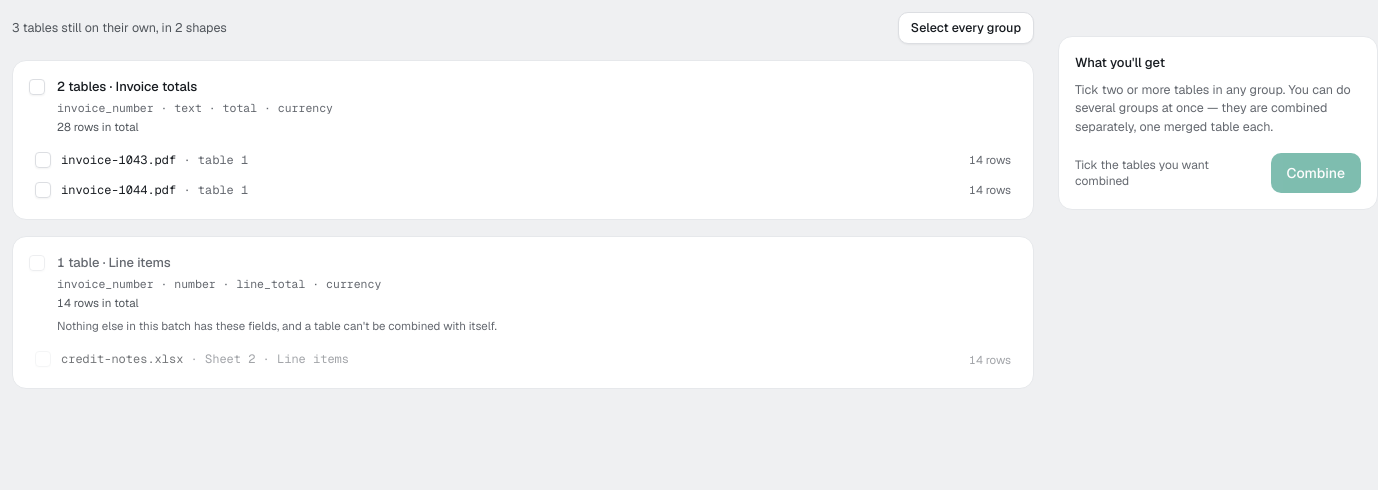
Test: MergePicker › says so when the request throws rather than refusing, and lets you go again
Click the checkbox named "Select all 2 tables with the Invoice totals shape" at coordinates (37, 87), box left=29, top=79, right=45, bottom=95
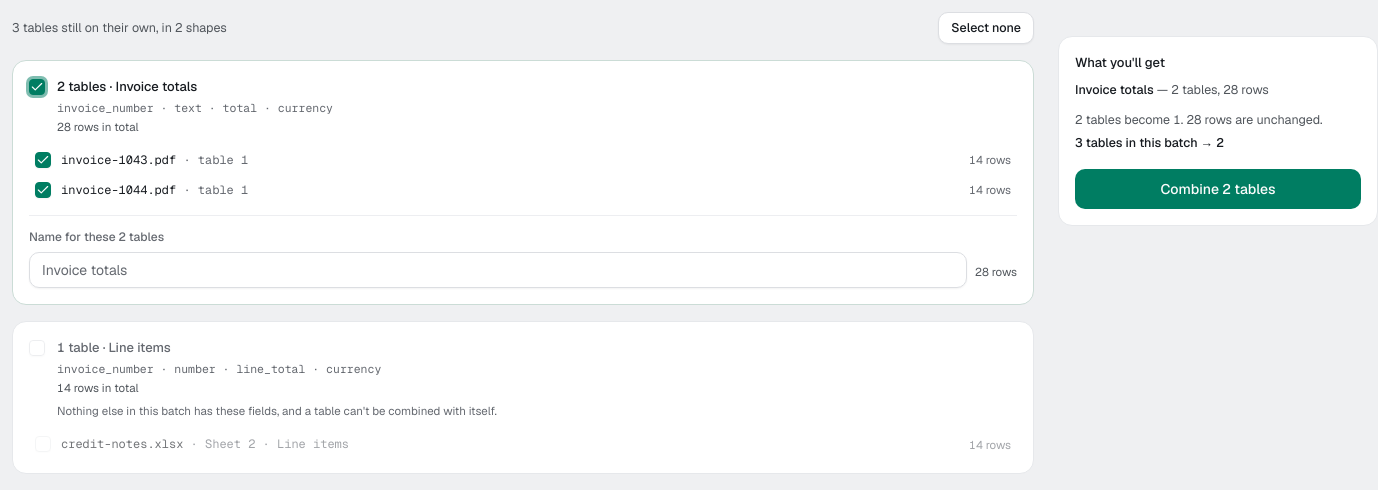
Click the button "Combine 2 tables" at coordinates (1218, 189), box left=1075, top=169, right=1361, bottom=209
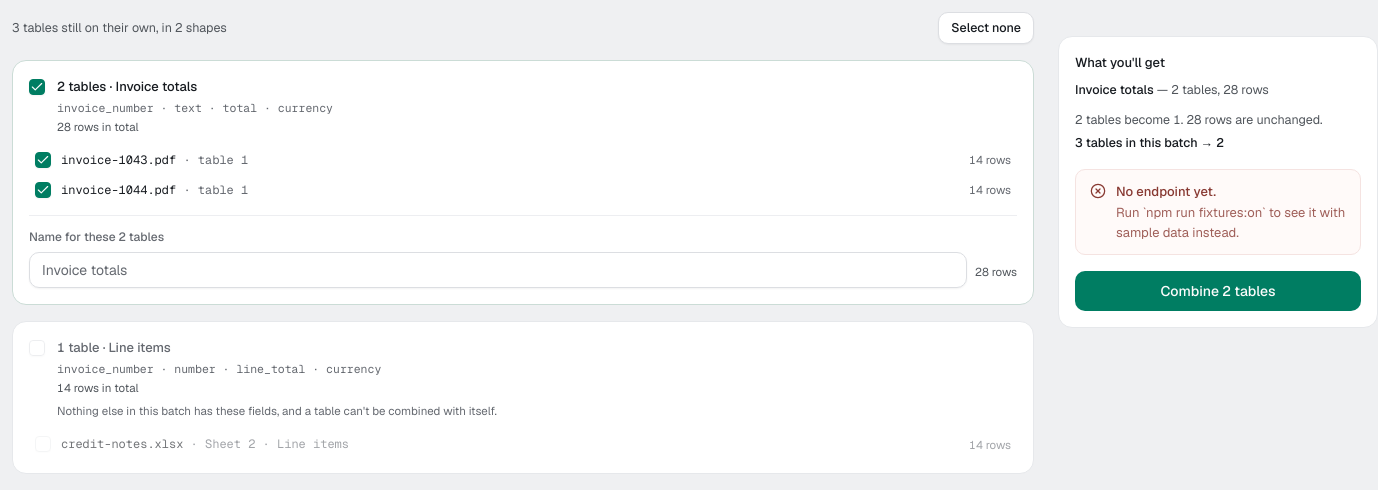
Now the button "Combine 2 tables" is enabled, box left=1075, top=271, right=1361, bottom=311
Now the text "No endpoint yet." is shown, box left=1116, top=183, right=1216, bottom=200
